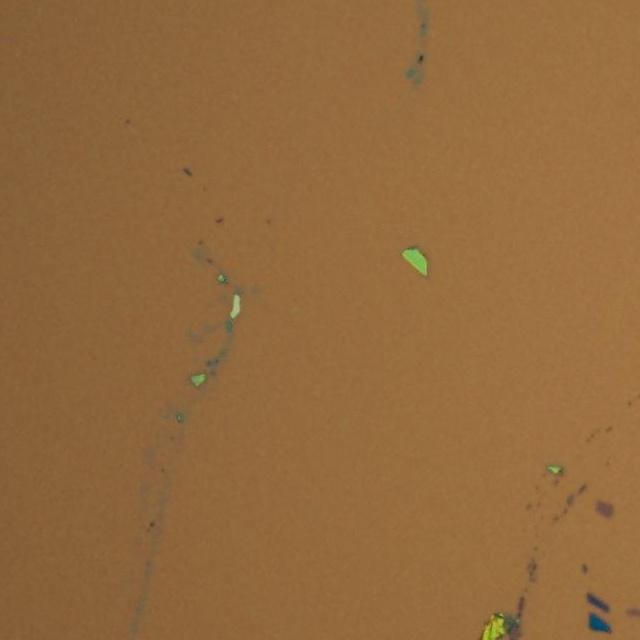monolayer-eWW4: (593, 498, 614, 519)
